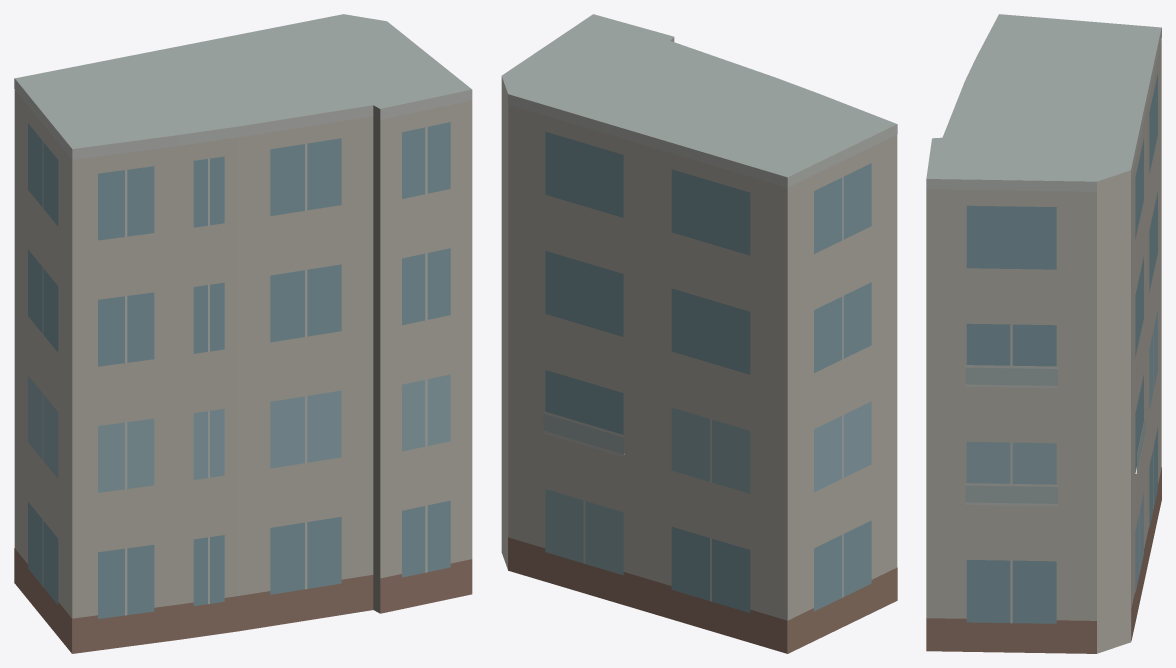
File: survey-upis-32462875.glb
3 renders of one model, left to right at view 1: azimuth 30°, elevation 25°; view 2: azimuth 150°, elevation 25°; view 3: azimuth 270°, elevation 25°, orthographic. The views are drawn at different scales.
Visible parts, largest first — view 1: survey-upis-32462875.tmp; view 2: survey-upis-32462875.tmp; view 3: survey-upis-32462875.tmp.
Boxes of the visible parts, x1=… form: survey-upis-32462875.tmp: x1=14, y1=14, x2=472, y2=653; survey-upis-32462875.tmp: x1=501, y1=14, x2=897, y2=653; survey-upis-32462875.tmp: x1=926, y1=14, x2=1161, y2=653.
Size of the model in its own units: 8.61 by 11.3 by 5.12.
